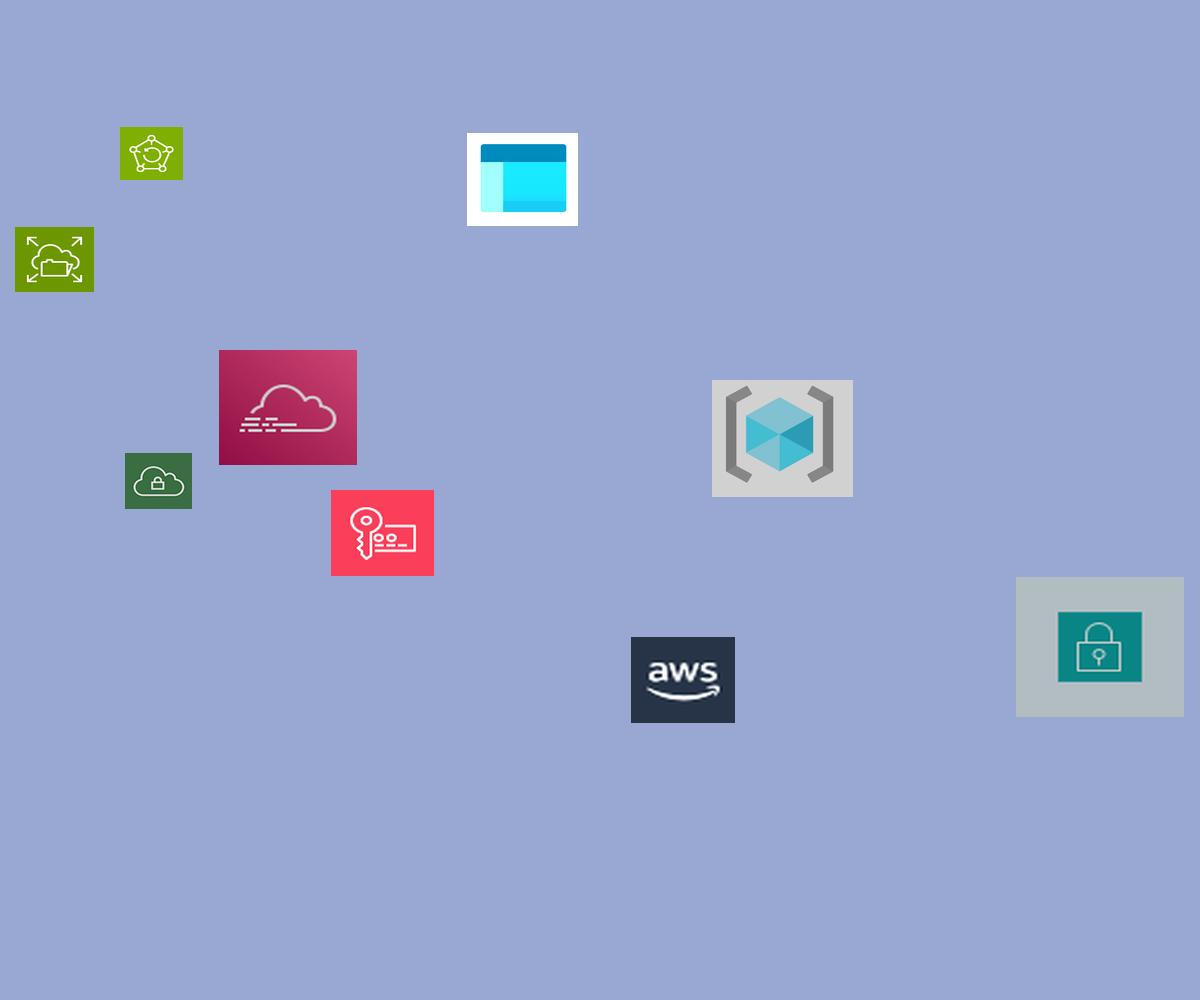AWS-Backup: (120, 127, 183, 180)
AWS-Cloud-logo: (631, 637, 735, 723)
AWS-CloudTrail: (219, 350, 357, 465)
AWS-EFS: (15, 227, 94, 292)
AWS-Key-Management-Service: (331, 490, 434, 576)
AWS-Private-subnet: (1016, 577, 1184, 717)
AWS-Private_vpc: (125, 453, 192, 509)
Azure_management-portal: (467, 133, 578, 226)
Azure_resource_group: (712, 380, 853, 497)
